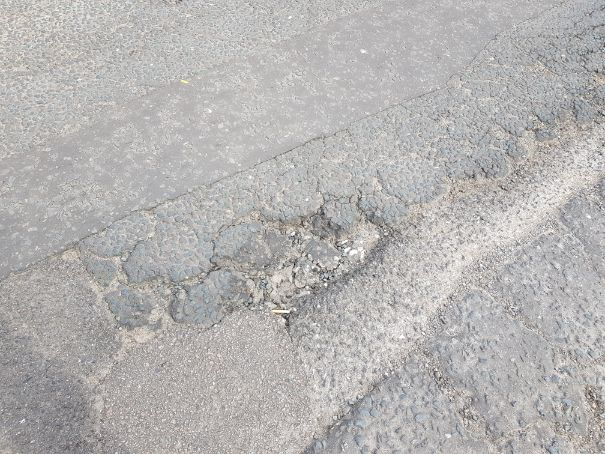pothole: (136, 189, 397, 332)
